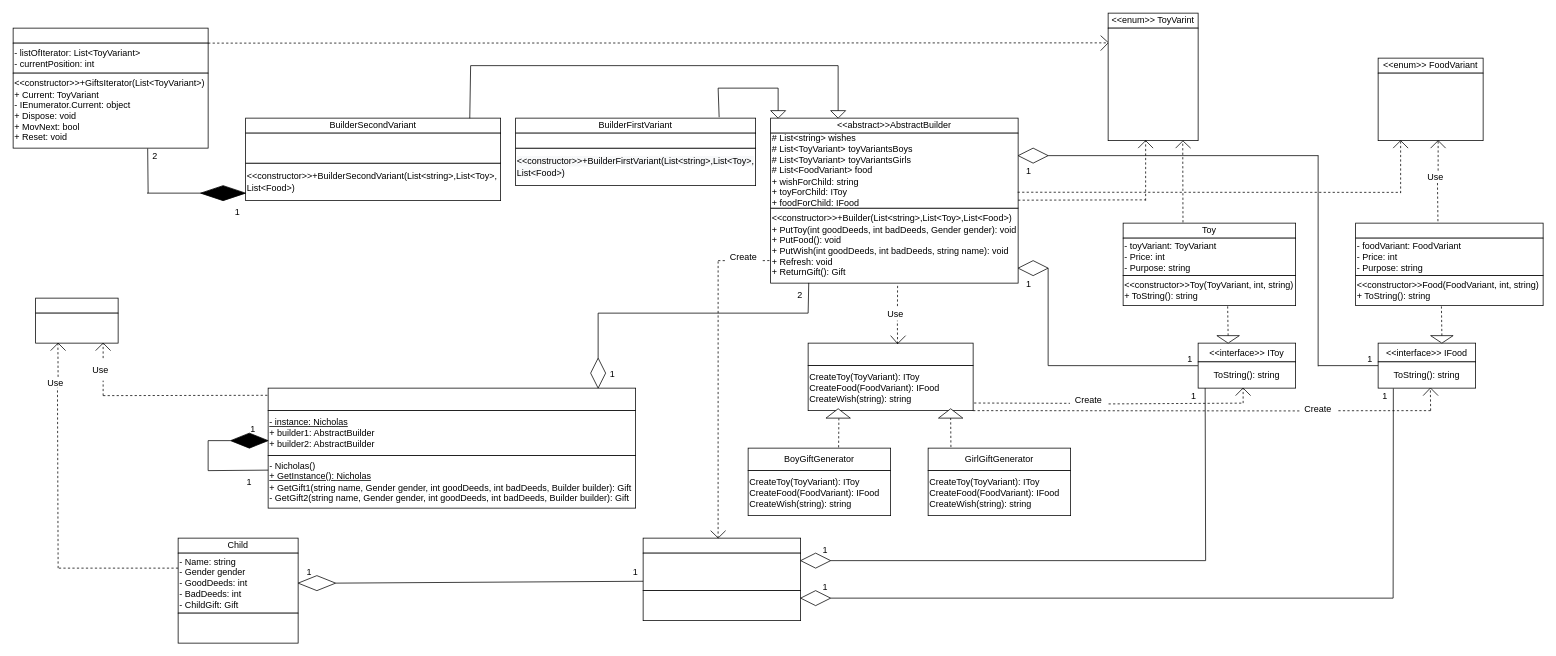
This 1556x656 diagram has some shape labels left out. Each missing label, with the box of its shape:
+ toyInGift: IToy + foodInGift: IFood + wishInGift: string: (642, 552, 801, 591)
- giftsIteratorBoys: GiftsIterator - giftsIteratorGirls: GiftsIterator: (245, 132, 501, 163)
<<constructor>>+Child(string, Gender, int, int): (177, 612, 298, 643)
<<constructor>>+Gift(AbstractBuilder) + ToString(): string: (642, 590, 801, 621)
<<enum>> Gender: (35, 297, 118, 313)
<<interface>> AbstractGiftGenerator: (807, 342, 973, 366)
Ball, Car, Guitare, Gun, Wolf, Doll, House, Rabbit, Ring, Stick: (1107, 27, 1198, 141)
female, male: (35, 312, 118, 343)
Food: (1355, 222, 1543, 238)
Gift: (642, 537, 801, 553)
GiftsIterator: (12, 27, 208, 43)
Nicholas: (267, 387, 636, 411)
Orange, Apple, Pineapple, Grapes, Pear, Strawberry: (1377, 72, 1483, 141)
